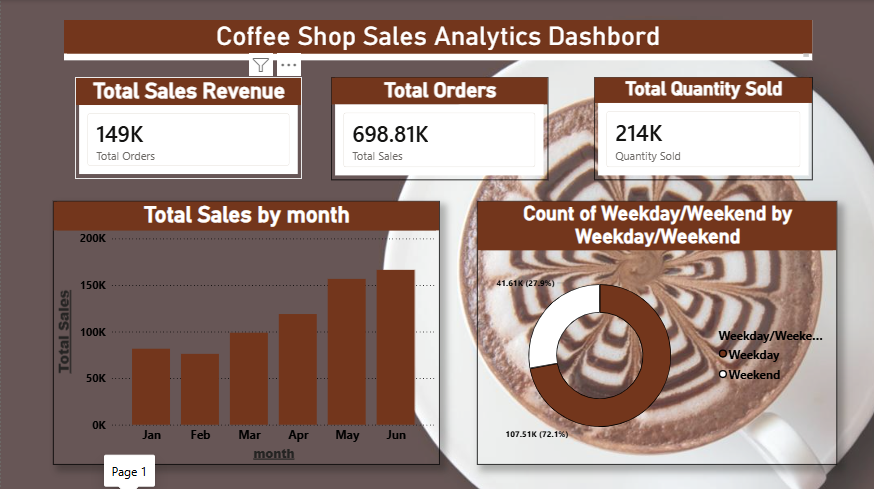

The dashboard page shown, as its layout file describes it:
{"tool":"powerbi","page":{"name":"Page 1","canvas":[1280,720],"ordinal":0},"visuals":[{"type":"textbox","title":"Coffee Shop Sales Analytics Dashbord","box":[92.4,28.6,1095.2,58.8],"z":0},{"type":"cardVisual","title":" Total Sales Revenue","fields":{"Data":["Transactions.Total Orders"]},"box":[108.7,112.7,332.1,148.9],"z":1000},{"type":"cardVisual","title":"Total Orders","fields":{"Data":["Transactions.Total Sales"]},"box":[483,112.7,318,150.9],"z":2000},{"type":"cardVisual","title":"Total Quantity Sold","fields":{"Data":["Transactions.Quantity Sold"]},"box":[867.4,112.7,320,150.9],"z":3000},{"type":"clusteredColumnChart","fields":{"Category":["Transactions.month"],"Y":["Transactions.Total Sales"]},"box":[76.5,293.8,565.5,386.4],"z":4000},{"type":"donutChart","fields":{"Category":["Transactions.Weekday/Weekend"],"Y":["CountNonNull(Transactions.Weekday/Weekend)"]},"box":[696.4,293.8,527.3,386.4],"z":5000}]}

Visuals, with their boxes in screenshot pixels (x1, y1, x2, y2), scaled from the page's 1280x720 canvas onto the 874x489 screenshot:
"Coffee Shop Sales Analytics Dashbord" textbox: pyautogui.locateOnScreen(63, 19, 811, 59)
" Total Sales Revenue" cardVisual: pyautogui.locateOnScreen(74, 77, 301, 178)
"Total Orders" cardVisual: pyautogui.locateOnScreen(330, 77, 547, 179)
"Total Quantity Sold" cardVisual: pyautogui.locateOnScreen(592, 77, 811, 179)
clusteredColumnChart - Transactions.month x Transactions.Total Sales: pyautogui.locateOnScreen(52, 200, 438, 462)
donutChart - Transactions.Weekday/Weekend x CountNonNull(Transactions.Weekday/Weekend): pyautogui.locateOnScreen(476, 200, 836, 462)
